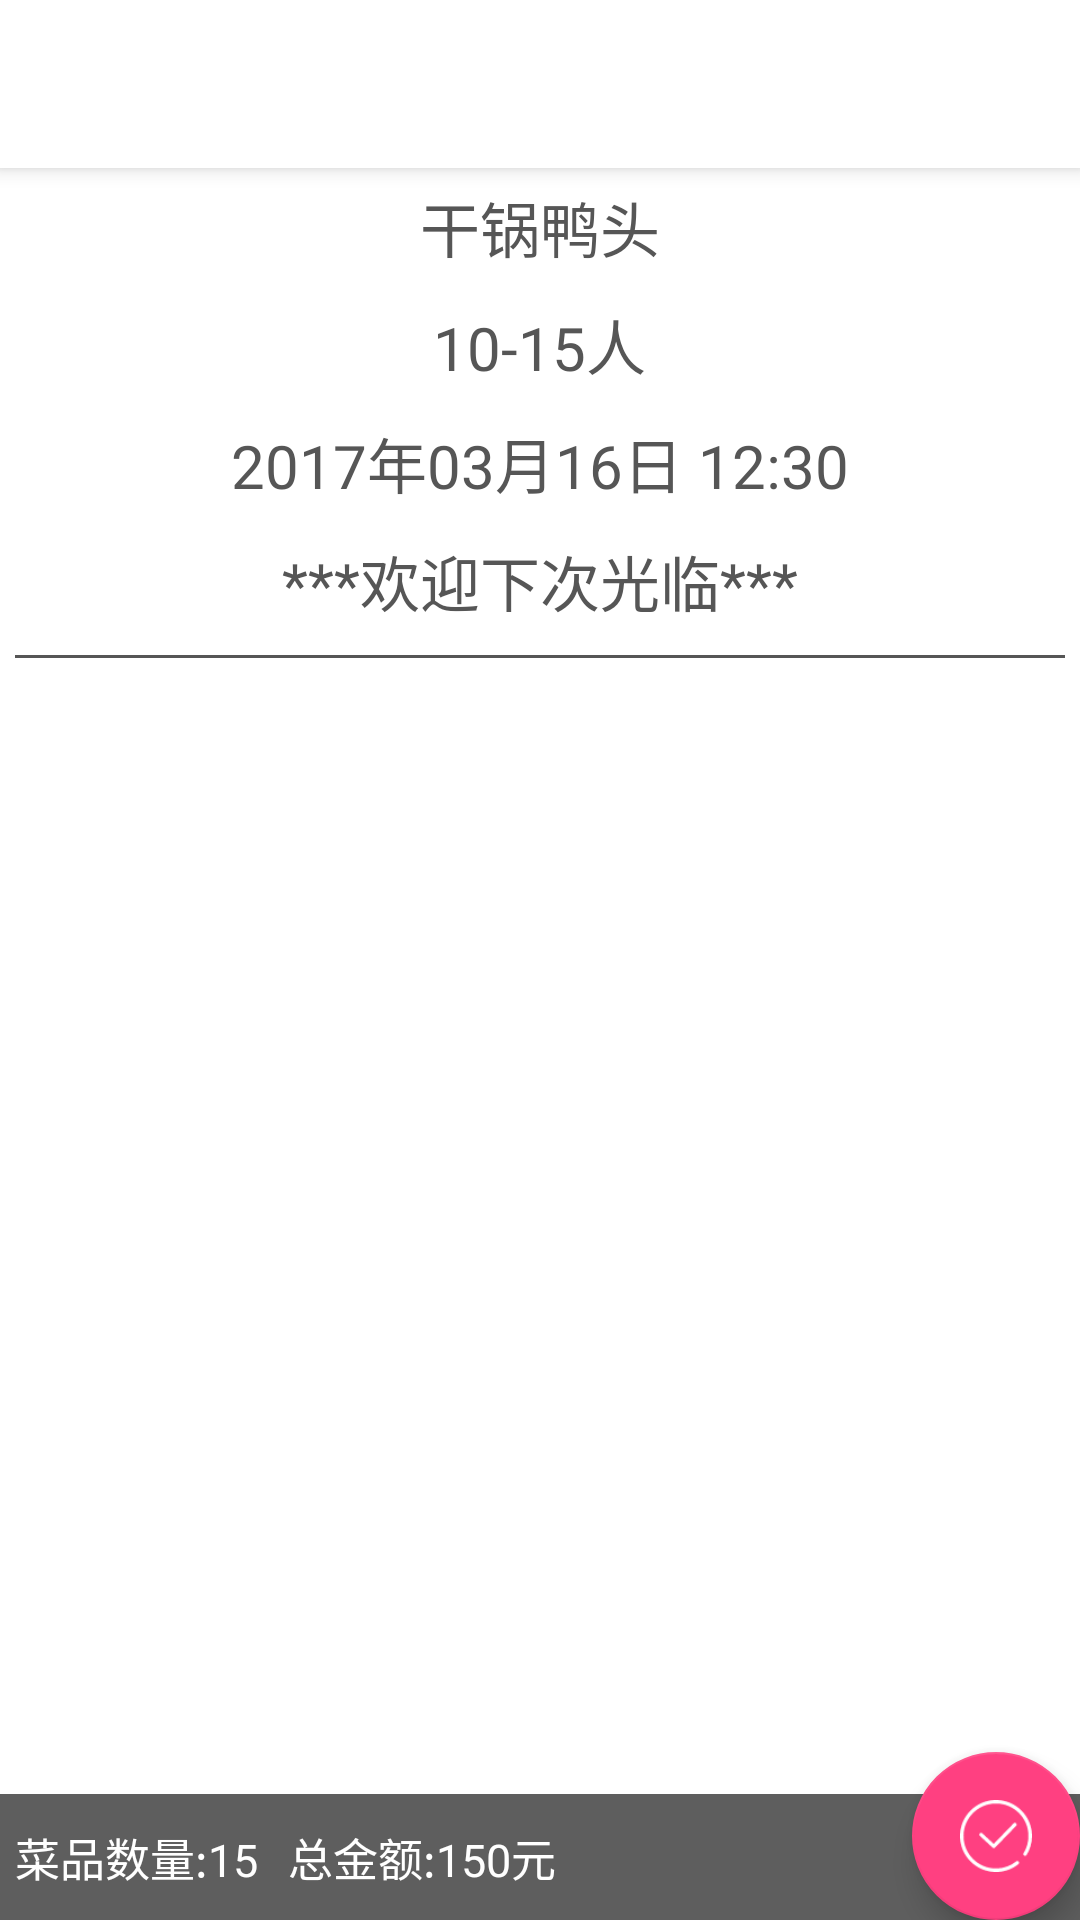

Where icons sit on this 1080 x 1920 app screen, as (x1, y1, x2, y2):
success: (912, 1752, 1080, 1920)
